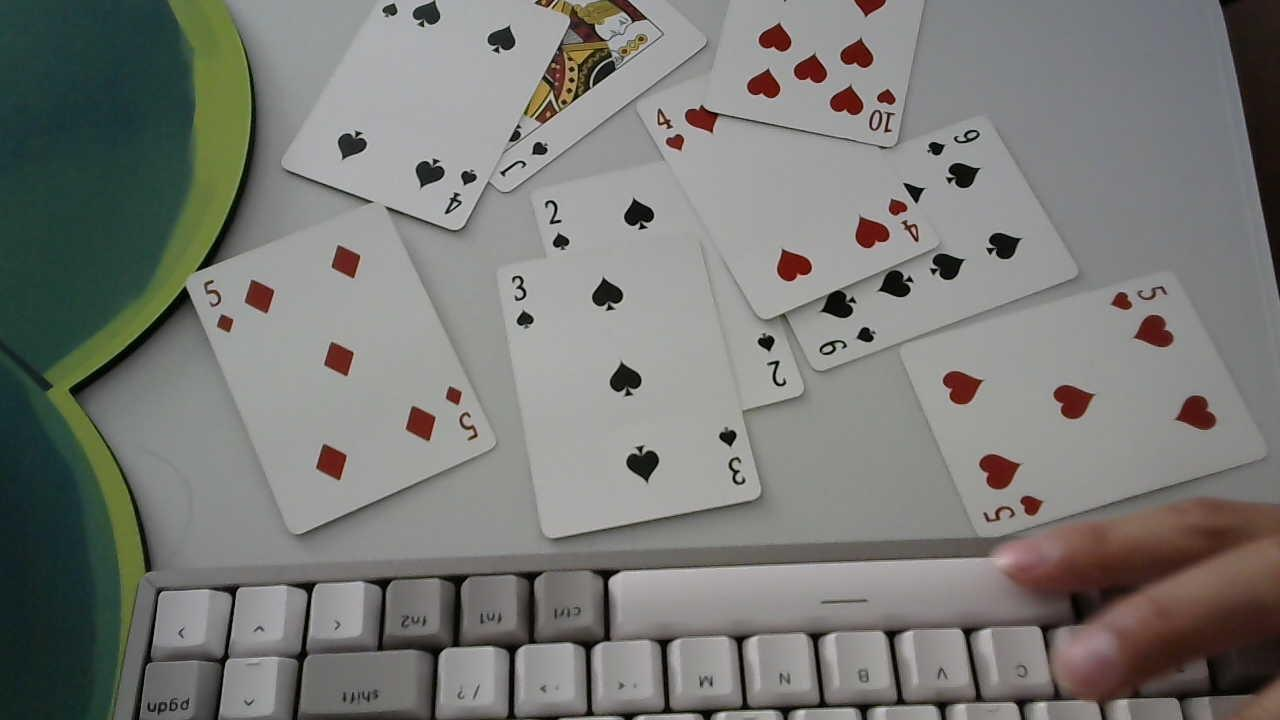10H: (863, 82, 902, 143)
2S: (750, 325, 791, 398), (537, 193, 575, 257)
4H: (885, 189, 928, 247), (649, 103, 689, 156)
4S: (717, 421, 753, 499), (506, 268, 539, 339), (439, 167, 479, 220)
5D: (438, 381, 486, 446), (197, 272, 237, 335)
5H: (974, 489, 1055, 531), (1106, 274, 1171, 314)
9S: (813, 321, 882, 360), (923, 123, 989, 159)
JS: (497, 135, 552, 182)
